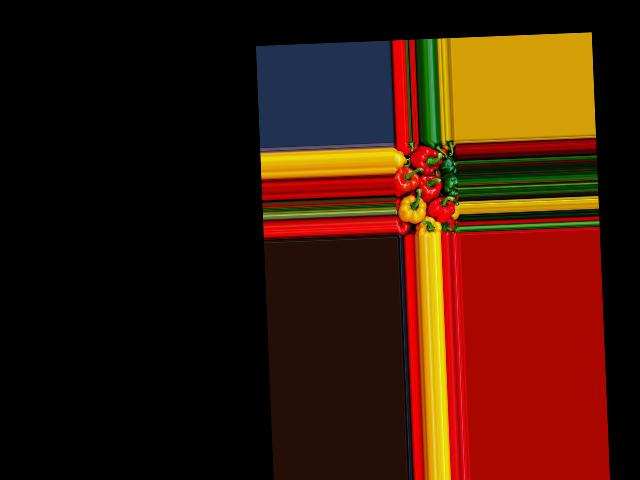bell_pepper: (392, 150, 406, 167)
